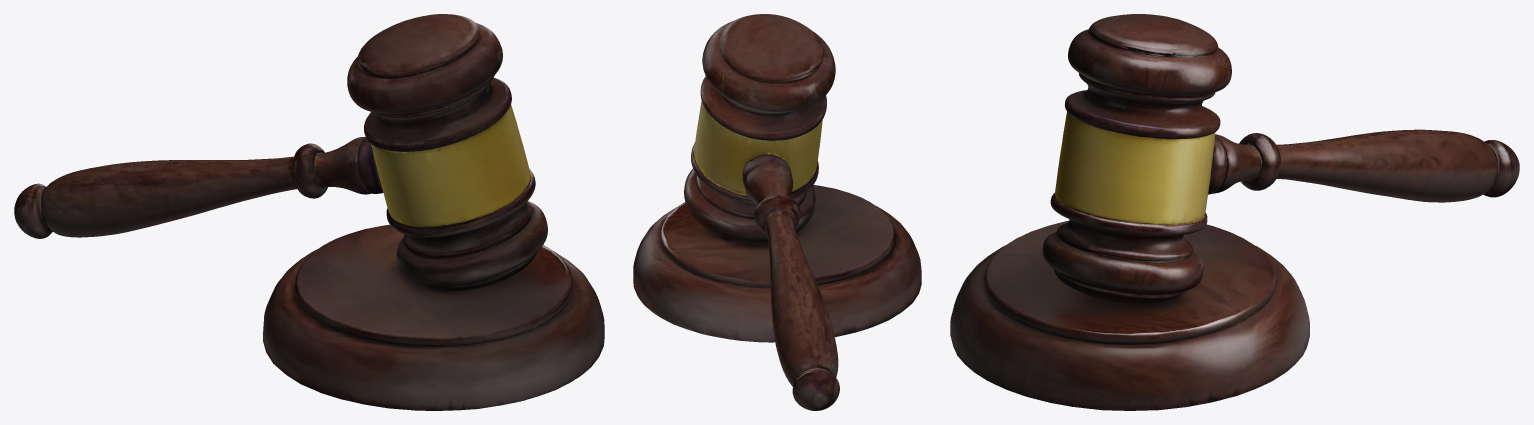
Rendered from gavel.opt.glb.
3 views of the same model, side by side, from view 1: azimuth 30°, elevation 25°; view 2: azimuth 150°, elevation 25°; view 3: azimuth 270°, elevation 25° (orthographic). The views are drawn at different scales.
Visible parts, largest first — view 1: tripo_node_c5dd20a8-9257-40fa-8517-f3de4c8db6f2; view 2: tripo_node_c5dd20a8-9257-40fa-8517-f3de4c8db6f2; view 3: tripo_node_c5dd20a8-9257-40fa-8517-f3de4c8db6f2.
Part boxes in pixels (left/top/right/bottom): tripo_node_c5dd20a8-9257-40fa-8517-f3de4c8db6f2: left=14, top=14, right=604, bottom=410; tripo_node_c5dd20a8-9257-40fa-8517-f3de4c8db6f2: left=633, top=14, right=921, bottom=410; tripo_node_c5dd20a8-9257-40fa-8517-f3de4c8db6f2: left=950, top=14, right=1519, bottom=410.
Bounding box in the file's own units: 0.8088 × 0.6035 × 0.9803.
1 material, 1 textured.
